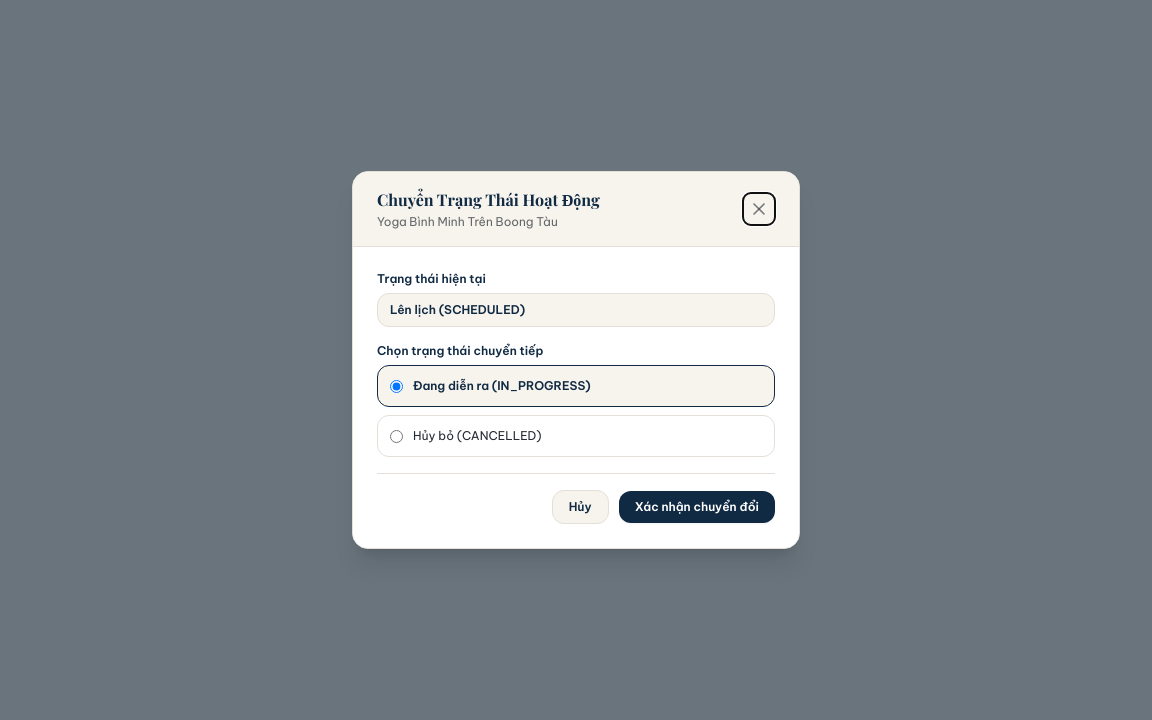
Test: ActivityStatusModal Component Tests (KAN-141) › displays API error message when status update fails
What coordinates should you click on to do the following:
click the button "Xác nhận chuyển đổi"
I would click on:
 (697, 507)
Its box is top-left (619, 491), bottom-right (775, 523).
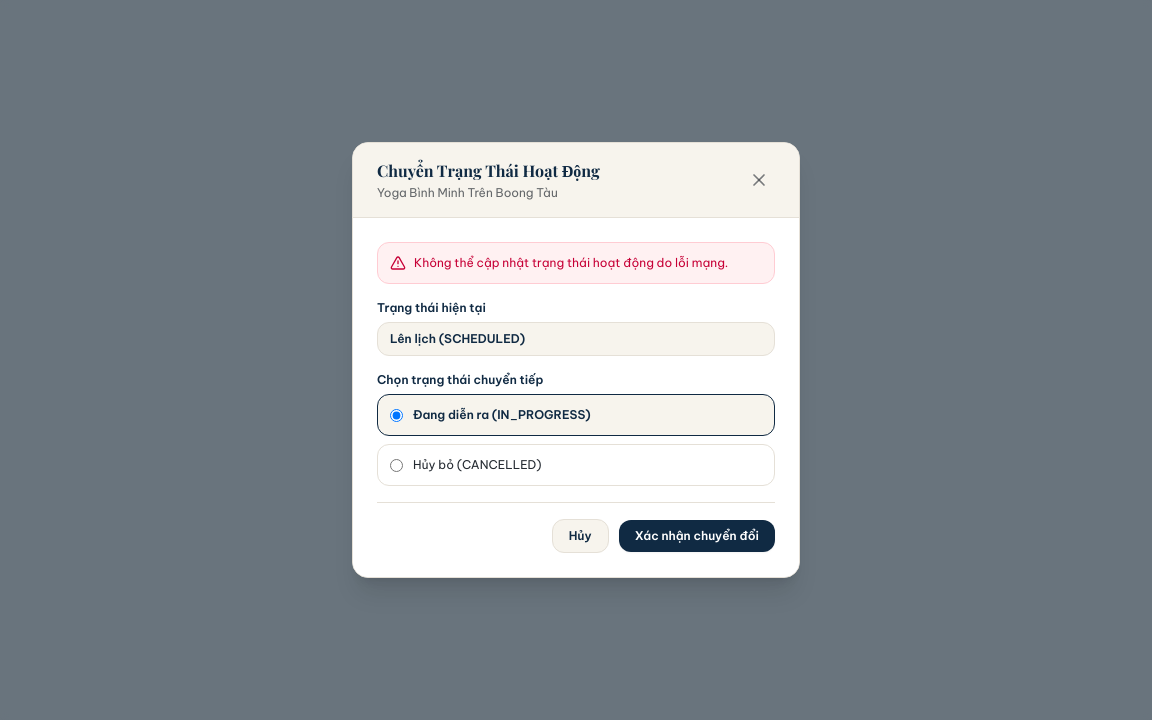
expect the text "Không thể cập nhật trạng thái hoạt động do lỗi mạng." is shown: met, box top-left (414, 255), bottom-right (728, 271)
